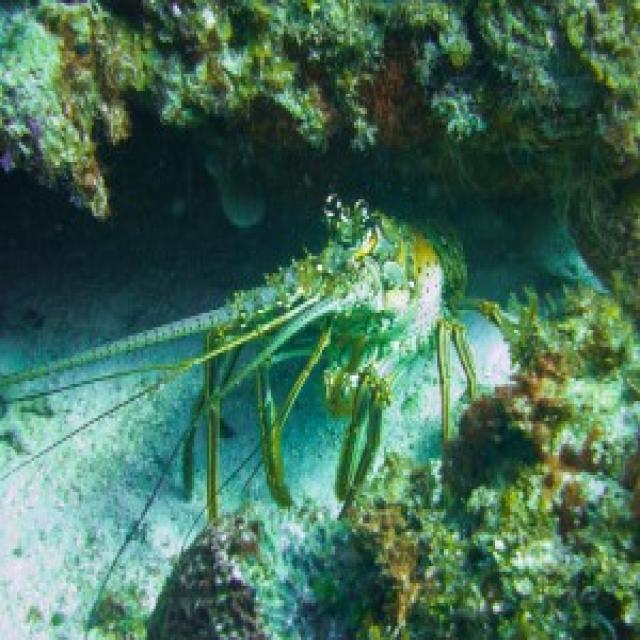lobsters: (91, 71, 538, 482)
